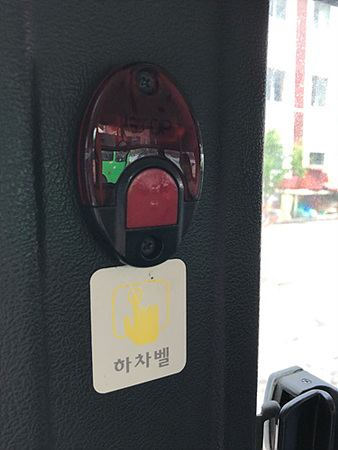bell: (80, 60, 205, 268)
